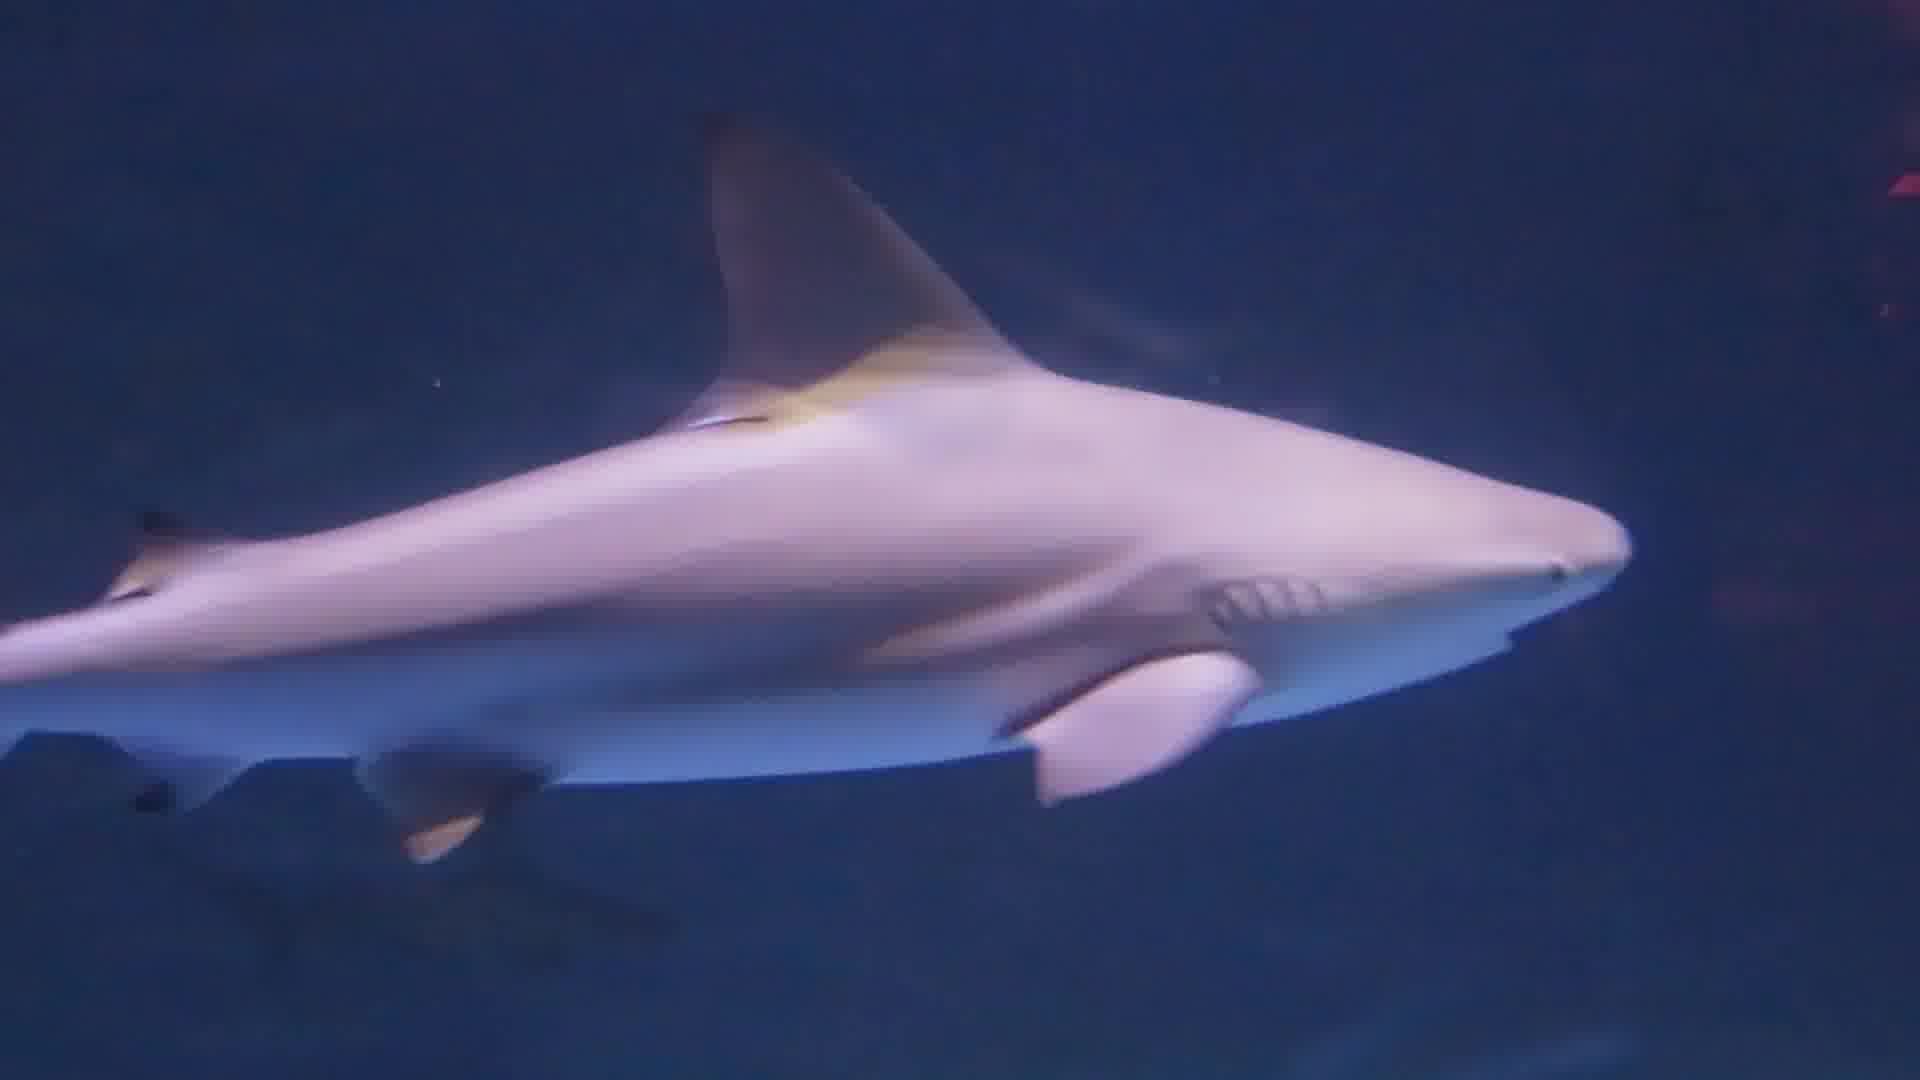Carcharhinus leucas: (24, 7, 1627, 982)
